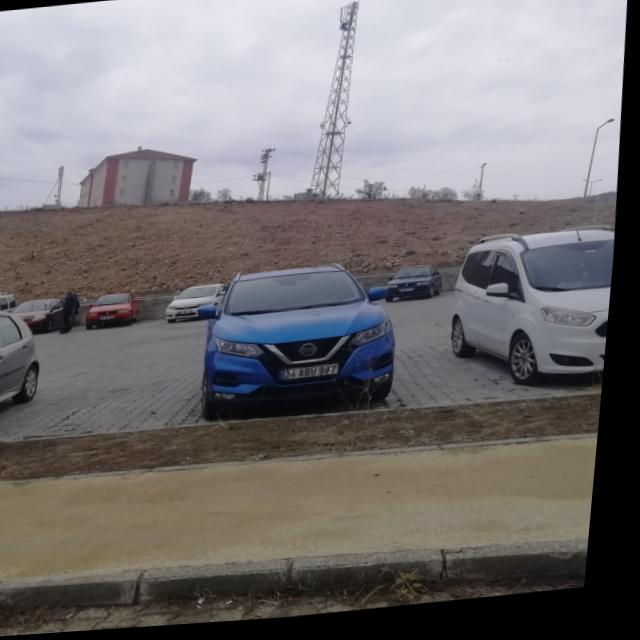license_plate: (285, 370, 344, 384)
